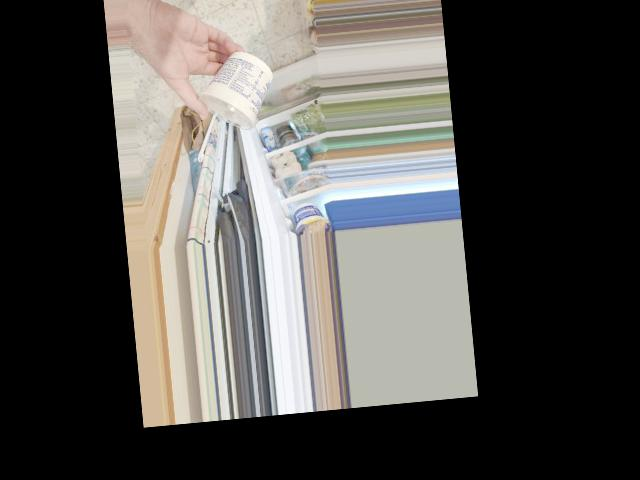cotage: (194, 46, 268, 137)
